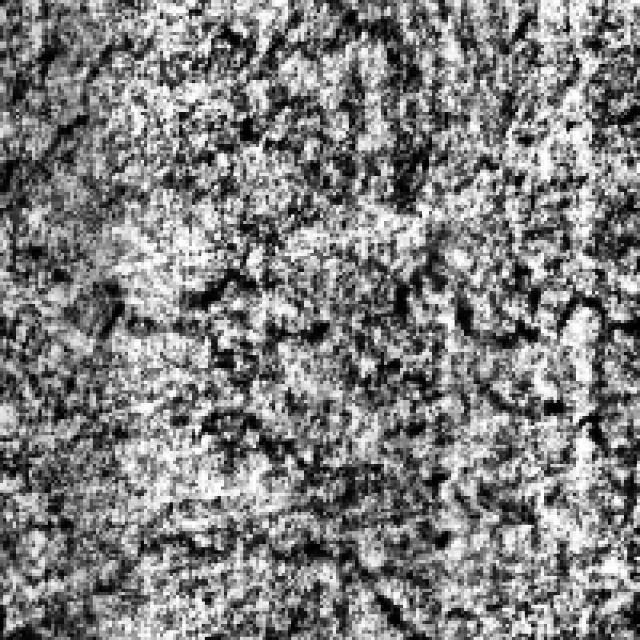Pitted_Surface: (147, 340, 605, 582), (19, 105, 352, 394), (346, 208, 636, 464)
